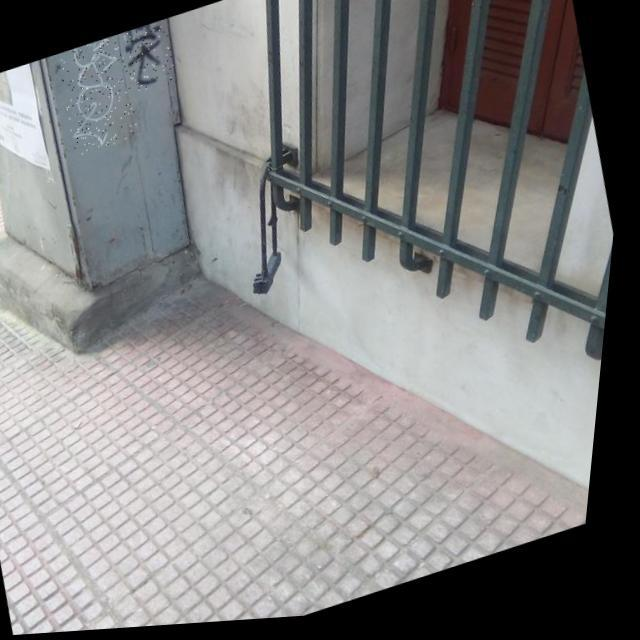-: (50, 33, 149, 159), (118, 20, 182, 96)
